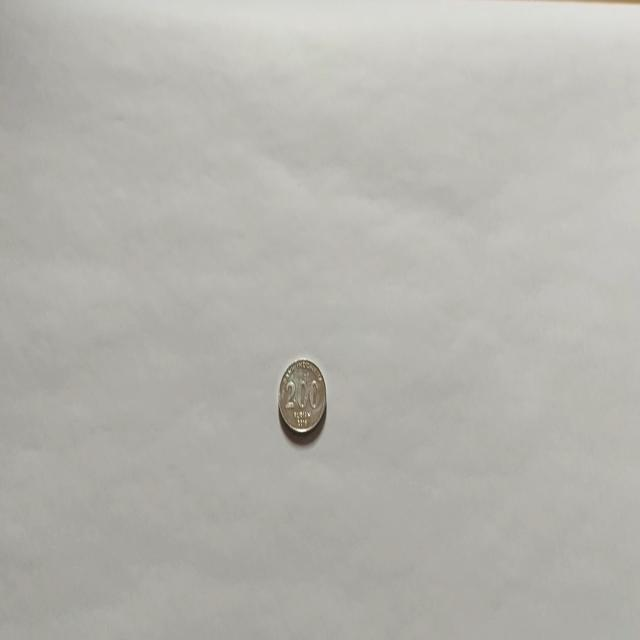dua ratus rupiah: (277, 356, 327, 436)
